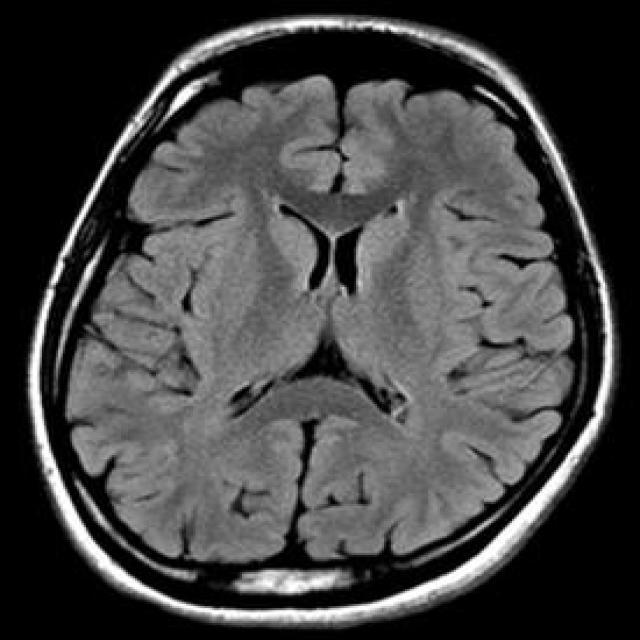notumor: (28, 17, 624, 631)
